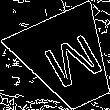M_SE: (33, 28, 104, 94)
